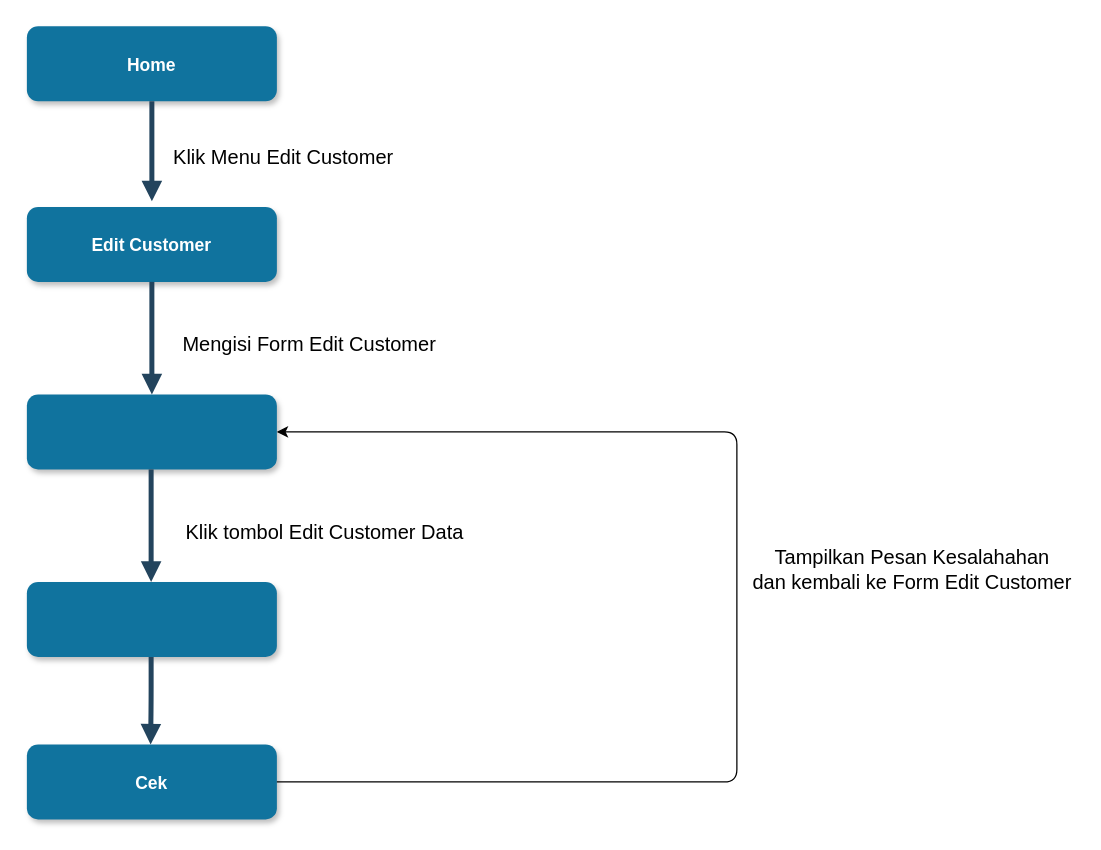
Some shapes in this 1101 by 850 pixel diagram are drawn without their labels. The shapes that lost their labels are listed below. From the top down, each one's centre as x and y in pixels, then its label:
At point 152,433: "Form Edit Customer".
At point 152,620: "Edit Customer Data".
